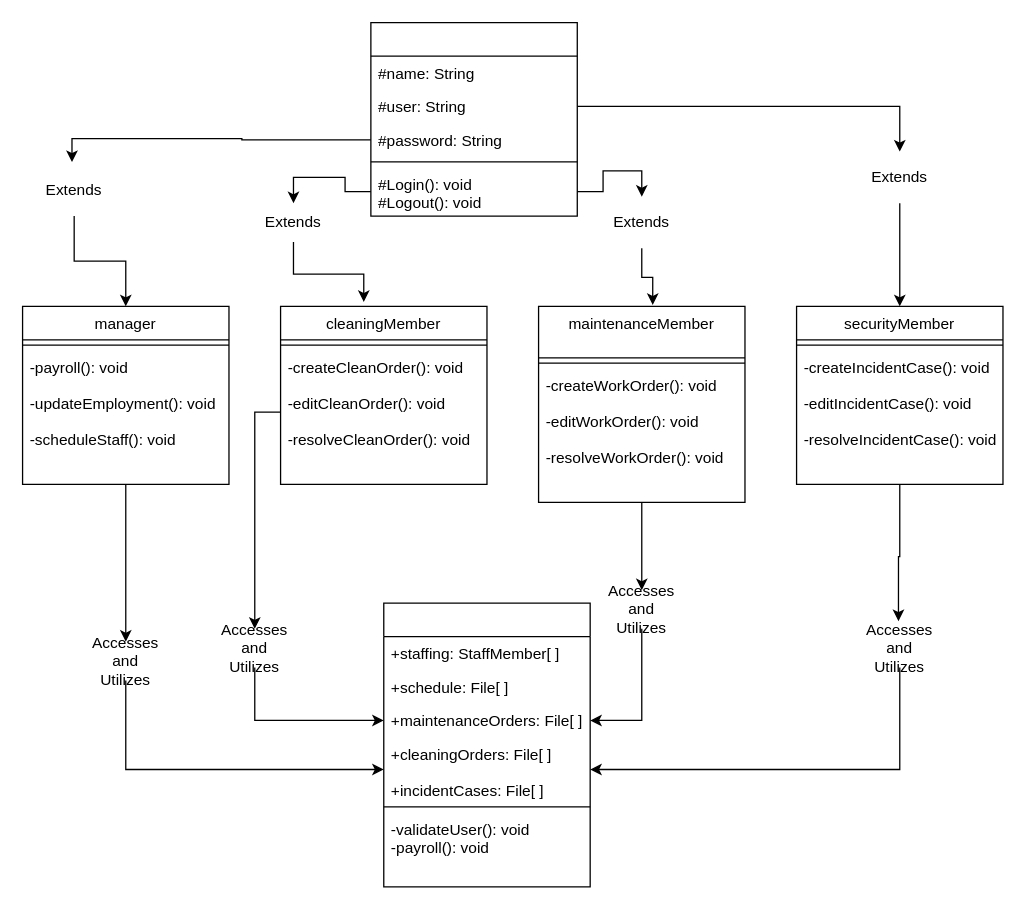
This 1026x913 diagram has some shape labels left out. The shapes that lost their labels are listed below. From the top down, each one's box as (x1, y1, x2, y2) in pixels, then its label:
(370, 21, 577, 216): staffMember
(382, 602, 590, 887): System
